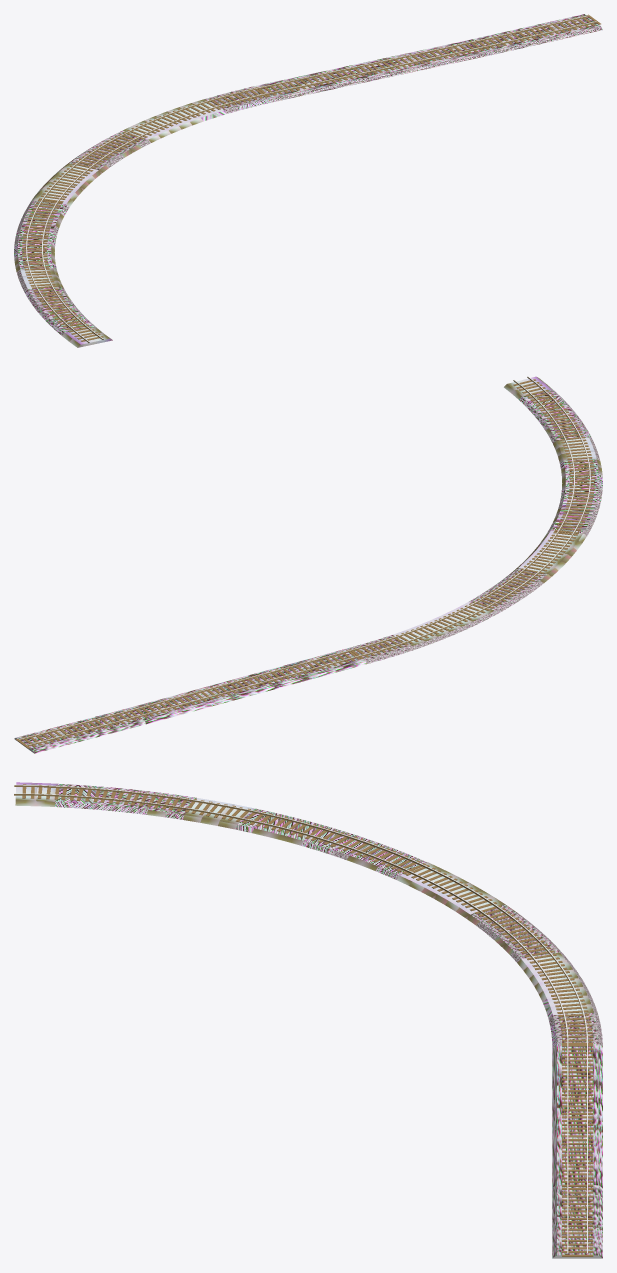
Rendered from GMLID_48290571_3377_526.gltf.
3 renders of one model, top to bottom at view 1: azimuth 30°, elevation 25°; view 2: azimuth 210°, elevation 25°; view 3: azimuth 270°, elevation 25°, orthographic. The views are drawn at different scales.
Visible parts, largest first — view 1: Z_UP; view 2: Z_UP; view 3: Z_UP.
Boxes of the visible parts, <box> form: Z_UP: <box>14,14,602,347</box>; Z_UP: <box>14,376,602,753</box>; Z_UP: <box>14,782,602,1258</box>.
Bounding box in the file's own units: 111 × 3.62 × 61.46.
Materials: 5 (1 with a texture image).
